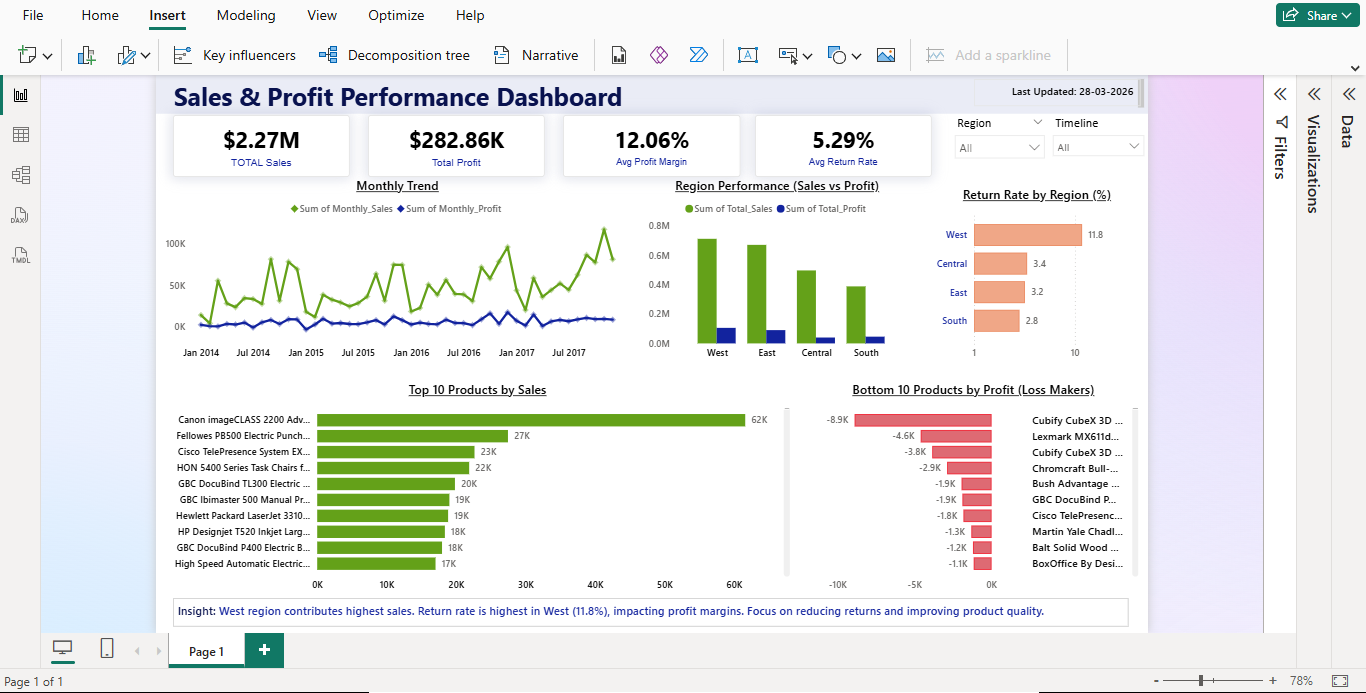

This screenshot's page, from the dashboard's own definition file:
{"tool":"powerbi","page":{"name":"Page 1","canvas":[1280,720],"ordinal":0},"visuals":[{"type":"card","fields":{"Values":["sales_dashboard monthly_summary.TOTAL Sales"]},"box":[22,51,228,80],"z":0},{"type":"card","fields":{"Values":["sales_dashboard monthly_summary.Total Profit"]},"box":[274,51,228,80],"z":1000},{"type":"card","fields":{"Values":["sales_dashboard monthly_summary.Avg Profit Margin"]},"box":[525,51,229,80],"z":2000},{"type":"card","fields":{"Values":["sales_dashboard monthly_summary.Avg Return Rate"]},"box":[773,51,228,80],"z":3000},{"type":"lineChart","title":"Monthly Trend","fields":{"Category":["sales_dashboard monthly_summary.Month_Date.Variation.Date Hierarchy.Year","sales_dashboard monthly_summary.Month_Date.Variation.Date Hierarchy.Month"],"Y":["Sum(sales_dashboard monthly_summary.Monthly_Sales)","Sum(sales_dashboard monthly_summary.Monthly_Profit)"]},"box":[0,120,623.3,263.3],"z":4000},{"type":"clusteredColumnChart","title":"Region Performance (Sales vs Profit)","fields":{"Category":["sales_dashboard region_summary.Region"],"Y":["Sum(sales_dashboard region_summary.Total_Sales)","Sum(sales_dashboard region_summary.Total_Profit)"]},"box":[623.3,120,356.7,263.3],"z":5000},{"type":"clusteredBarChart","title":"Return Rate by Region (%)","fields":{"Category":["sales_dashboard region_summary.Region"],"Y":["Sum(sales_dashboard region_summary.Return_Rate)"]},"box":[993.5,131.6,286.5,251.6],"z":6000},{"type":"barChart","title":"Top 10 Products by Sales","fields":{"Category":["sales_dashboard product_summary.Product_Name"],"Y":["Sum(sales_dashboard product_summary.Total_Sales)"]},"box":[0,383.3,830,300],"z":7000},{"type":"barChart","title":"Bottom 10 Products by Profit (Loss Makers)","fields":{"Category":["sales_dashboard product_summary.Product_Name"],"Y":["Sum(sales_dashboard product_summary.Total_Profit)"]},"box":[830,383.3,450,300],"z":8000},{"type":"slicer","fields":{"Values":["sales_dashboard region_summary.Region"]},"box":[1025.8,51.6,126.5,80],"z":9000},{"type":"slicer","fields":{"Values":["sales_dashboard monthly_summary.Month_Date.Variation.Date Hierarchy.Year","sales_dashboard monthly_summary.Month_Date.Variation.Date Hierarchy.Month"]},"box":[1152.3,51.6,127.7,80],"z":10000},{"type":"textbox","box":[0,0,1280,50.3],"z":11000},{"type":"textbox","box":[21.4,674.3,1232.9,37.1],"z":11001},{"type":"textbox","box":[1055.5,5.5,215.5,35.5],"z":11002}]}

Visuals, with their boxes on the page's 1280x720 design canvas (x1, y1, x2, y2). These are canvas units, not pixel positions in the 1366x693 screenshot, which may show the page scaled, cropped or inside an application window:
card - sales_dashboard monthly_summary.TOTAL Sales: locate(22, 51, 250, 131)
card - sales_dashboard monthly_summary.Total Profit: locate(274, 51, 502, 131)
card - sales_dashboard monthly_summary.Avg Profit Margin: locate(525, 51, 754, 131)
card - sales_dashboard monthly_summary.Avg Return Rate: locate(773, 51, 1001, 131)
"Monthly Trend" lineChart: locate(0, 120, 623, 383)
"Region Performance (Sales vs Profit)" clusteredColumnChart: locate(623, 120, 980, 383)
"Return Rate by Region (%)" clusteredBarChart: locate(994, 132, 1280, 383)
"Top 10 Products by Sales" barChart: locate(0, 383, 830, 683)
"Bottom 10 Products by Profit (Loss Makers)" barChart: locate(830, 383, 1280, 683)
slicer - sales_dashboard region_summary.Region: locate(1026, 52, 1152, 132)
slicer - sales_dashboard monthly_summary.Month_Date.Variation.Date Hierarchy.Year x sales_dashboard monthly_summary.Month_Date.Variation.Date Hierarchy.Month: locate(1152, 52, 1280, 132)
textbox: locate(0, 0, 1280, 50)
textbox: locate(21, 674, 1254, 711)
textbox: locate(1056, 6, 1271, 41)
